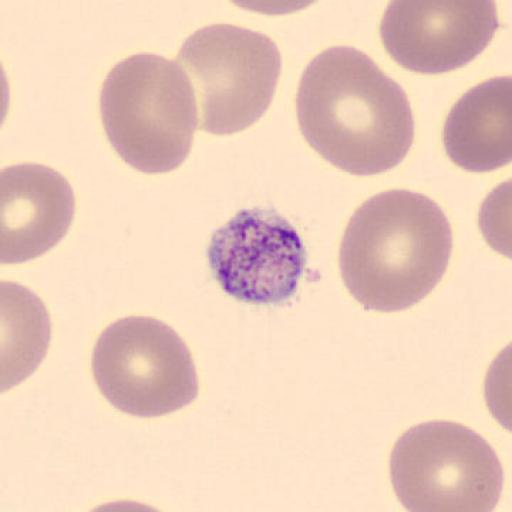Platelet: (204, 205, 314, 308)
RBC: (293, 42, 417, 180), (336, 185, 455, 316), (97, 48, 200, 178), (173, 20, 284, 139), (90, 312, 200, 422), (386, 416, 506, 512), (378, 1, 501, 77), (2, 160, 78, 266), (439, 73, 512, 175), (1, 278, 54, 396), (476, 170, 512, 264), (482, 337, 512, 437), (215, 0, 332, 18), (65, 495, 185, 512), (0, 54, 13, 136)
